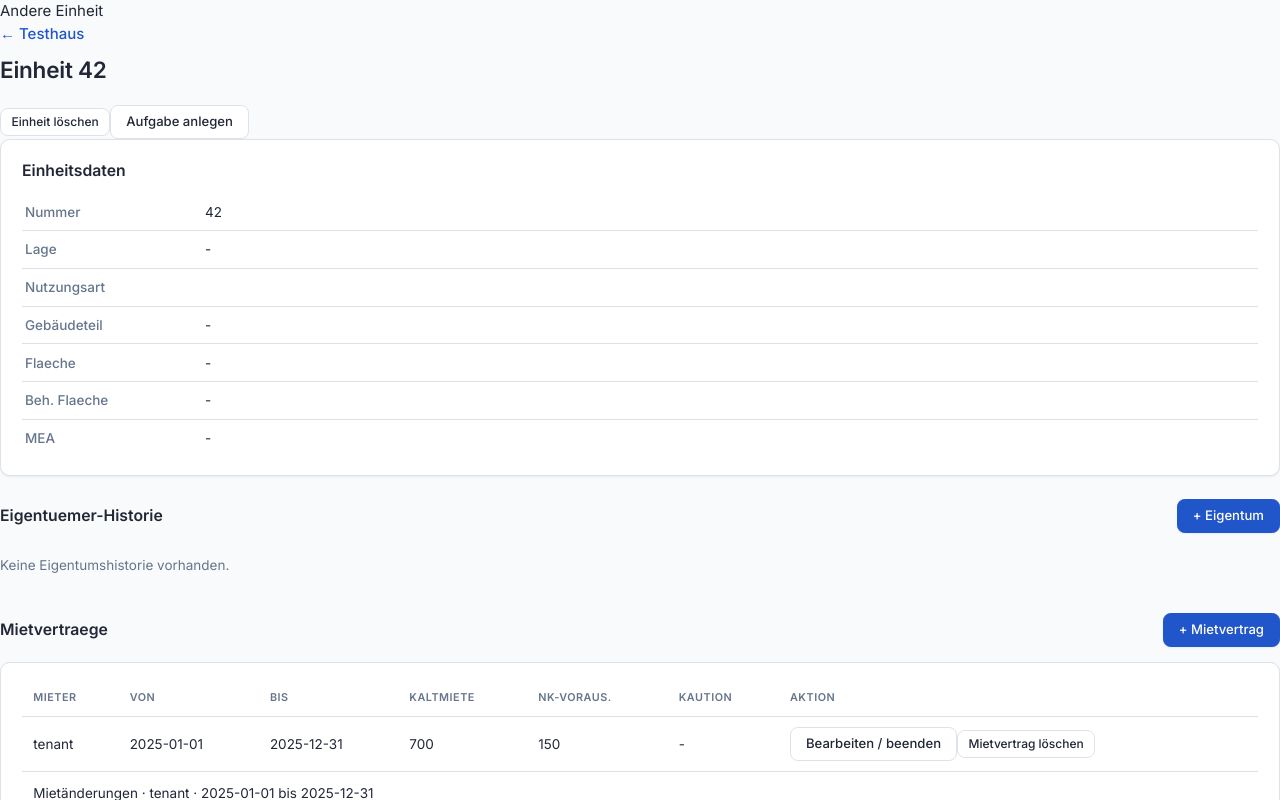
Test case: keeps unit and canonical detail after 403, with no retry
What coordinates should you click on to do the following:
click the button "Einheit löschen"
I would click on:
 (55, 122)
Its box is [0,108,110,136].
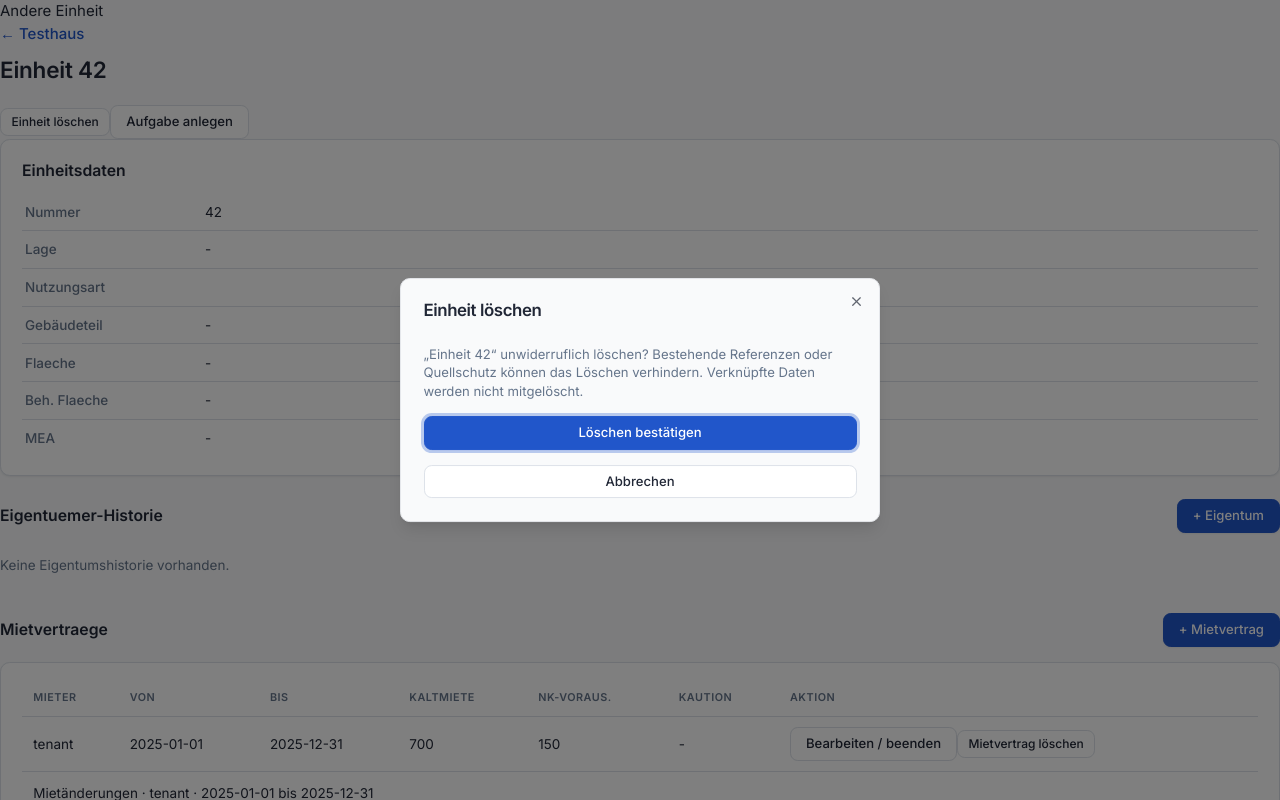
What coordinates should you click on to do the following:
click the button "Löschen bestätigen"
I would click on:
 (640, 433)
Its box is [424,416,856,450].
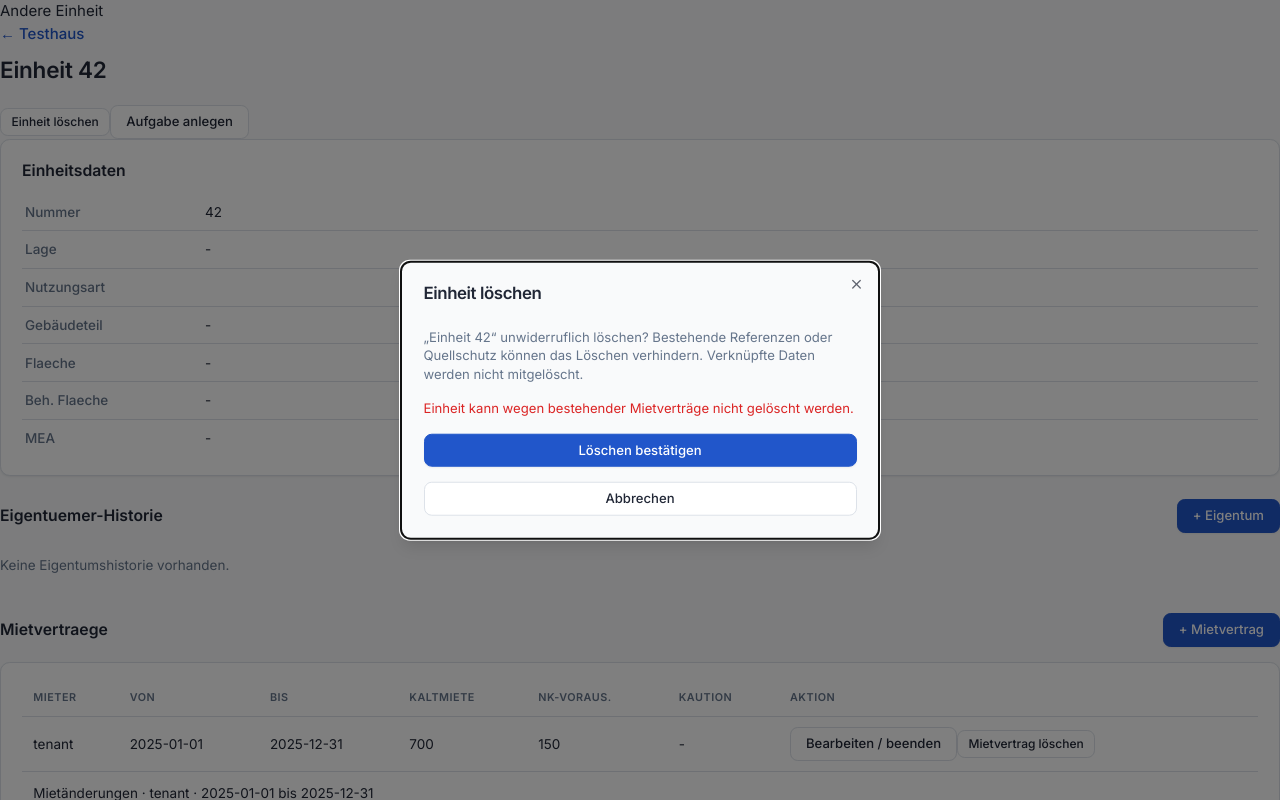
Expected: the heading "Einheit 42" is shown, [0,56,107,82]
Expected: the message reads "Einheit kann wegen bestehender Mietverträge nicht gelöscht werden.", [424,400,854,416]
